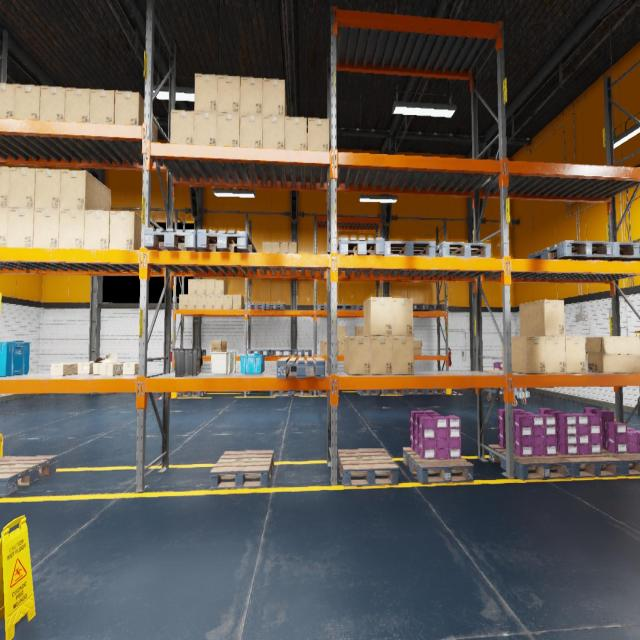box: (114, 90, 158, 142), (60, 170, 111, 210), (586, 337, 640, 373), (109, 211, 154, 249), (519, 299, 565, 336), (502, 336, 546, 373), (8, 167, 36, 208), (34, 168, 61, 209), (363, 298, 392, 336), (33, 208, 60, 248), (344, 336, 371, 375), (7, 208, 34, 247), (84, 210, 110, 249), (59, 209, 85, 248), (263, 78, 287, 116), (14, 84, 40, 119), (40, 85, 65, 121), (240, 76, 263, 115), (89, 89, 115, 123), (65, 87, 90, 122), (217, 75, 240, 113), (194, 73, 217, 111), (392, 336, 414, 375), (170, 109, 194, 144), (392, 297, 413, 336), (371, 336, 392, 375), (262, 115, 285, 149), (217, 112, 240, 146), (565, 336, 586, 373), (545, 336, 566, 373), (307, 117, 329, 151), (285, 116, 307, 150), (240, 114, 262, 148), (194, 111, 216, 145), (93, 353, 118, 375), (0, 83, 15, 118), (0, 166, 10, 208), (51, 362, 77, 376), (100, 362, 125, 376), (0, 208, 8, 246), (77, 361, 94, 374), (123, 362, 138, 375), (233, 294, 244, 310), (210, 341, 227, 351), (215, 280, 227, 294), (178, 294, 188, 309), (188, 279, 197, 294), (224, 294, 232, 310), (197, 294, 206, 308), (206, 280, 215, 294), (197, 280, 206, 294), (414, 341, 422, 355), (338, 326, 346, 340), (215, 294, 223, 308), (206, 294, 214, 308), (188, 294, 196, 308), (288, 242, 297, 253), (320, 341, 327, 355), (271, 242, 280, 252), (280, 242, 288, 253), (338, 341, 344, 355), (263, 242, 271, 252), (355, 326, 363, 335), (337, 341, 338, 355), (337, 326, 338, 340)
pallets: (488, 444, 572, 480), (402, 448, 473, 484), (210, 450, 274, 489), (338, 448, 399, 487), (0, 455, 56, 497), (554, 451, 621, 478), (527, 241, 612, 260), (197, 230, 257, 252), (144, 228, 200, 251), (575, 242, 640, 261), (601, 449, 640, 477), (277, 357, 325, 378), (436, 241, 491, 258), (384, 241, 436, 257), (337, 238, 384, 255), (488, 387, 526, 393), (422, 304, 444, 311), (178, 392, 207, 397), (381, 389, 405, 395), (357, 390, 380, 396), (248, 350, 270, 356), (270, 390, 291, 396), (271, 350, 292, 356), (294, 349, 312, 356), (291, 390, 312, 396), (318, 390, 339, 396), (406, 388, 426, 394), (247, 303, 266, 309), (266, 303, 284, 309), (426, 389, 445, 394), (337, 305, 354, 310), (413, 304, 425, 310), (317, 304, 327, 310), (355, 304, 363, 310), (202, 350, 206, 356)
